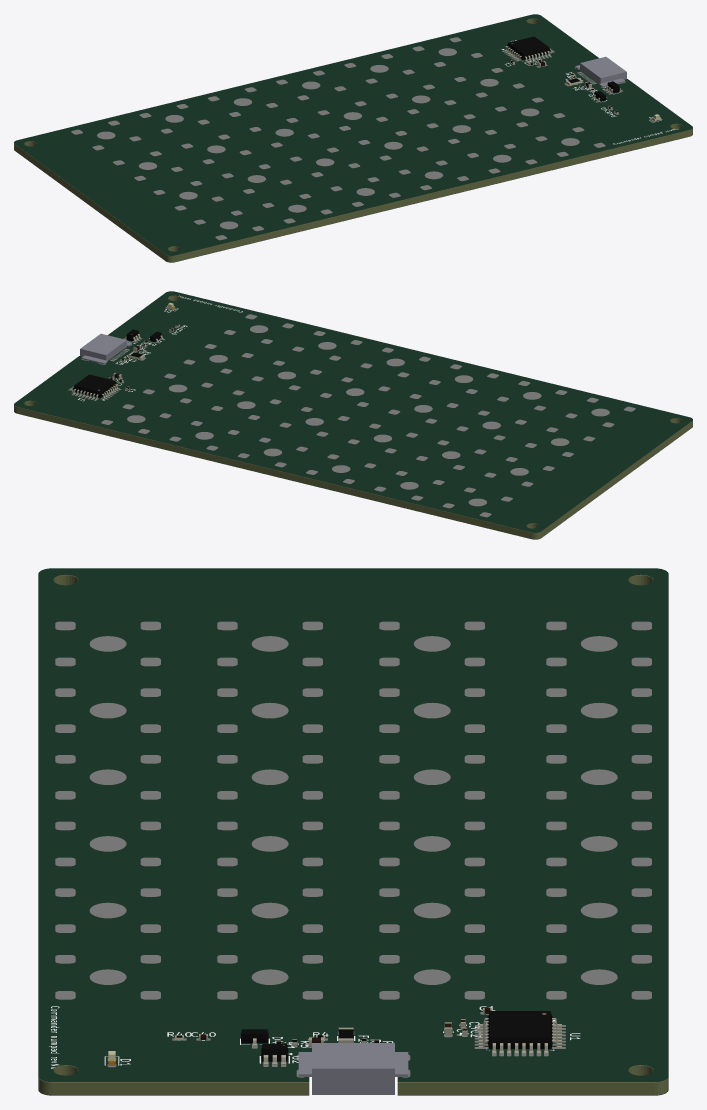
Rendered from commander_numpad.dae.
3 renders of one model, top to bottom at view 1: azimuth 30°, elevation 25°; view 2: azimuth 150°, elevation 25°; view 3: azimuth 270°, elevation 25°, orthographic. The views are drawn at different scales.
Visible parts, largest first — view 1: part_02, part_07, part_05, part_08, part_09, part_01, part_10; view 2: part_02, part_07, part_05, part_08, part_09, part_01, part_10; view 3: part_02, part_07, part_05, part_09, part_08, part_01, part_10, part_13.
Part boxes in pixels (x1,y1,x2,y2): part_02: (14,14,692,262); part_07: (71,37,625,240); part_05: (14,18,692,262); part_08: (97,48,662,139); part_09: (575,56,626,87); part_01: (507,36,619,101); part_10: (503,46,621,114); part_02: (14,291,692,539); part_07: (68,314,635,517); part_05: (14,295,692,539); part_08: (72,307,486,506); part_09: (80,333,131,364); part_01: (73,329,161,397); part_10: (70,324,179,399); part_02: (38,568,668,1095); part_07: (55,621,651,1077); part_05: (38,574,668,1095); part_09: (298,1043,408,1094); part_08: (107,636,617,1067); part_01: (241,1011,552,1061); part_10: (174,1008,561,1064); part_13: (49,1006,580,1068).
Size of the model in its own units: 131 by 67.95 by 3.23.
